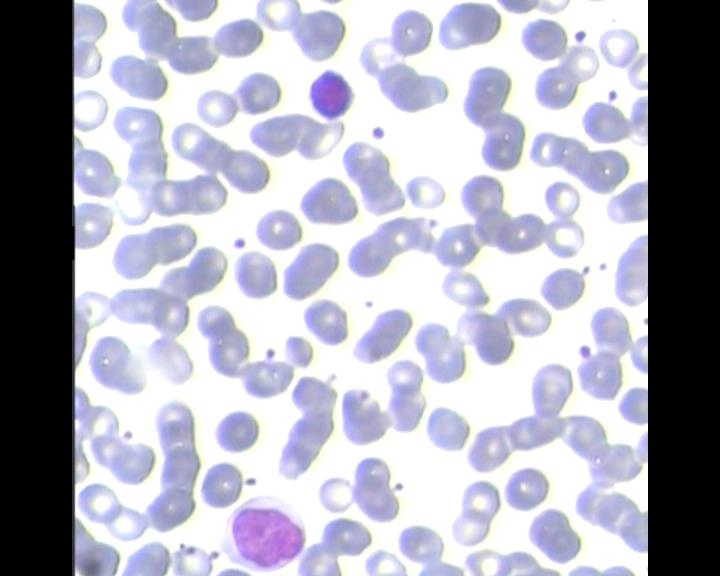lymp: (222, 490, 311, 572), (307, 66, 358, 121)
